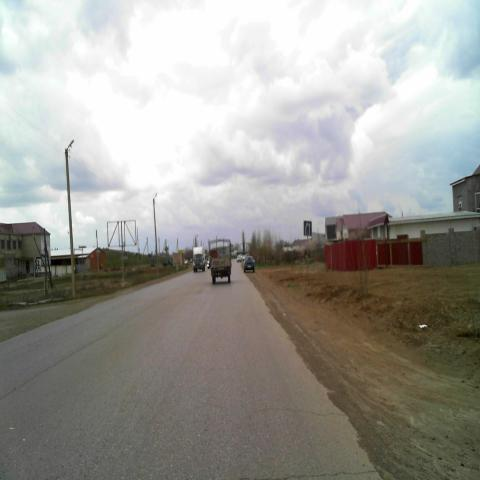5_15_5: (303, 220, 312, 236)
